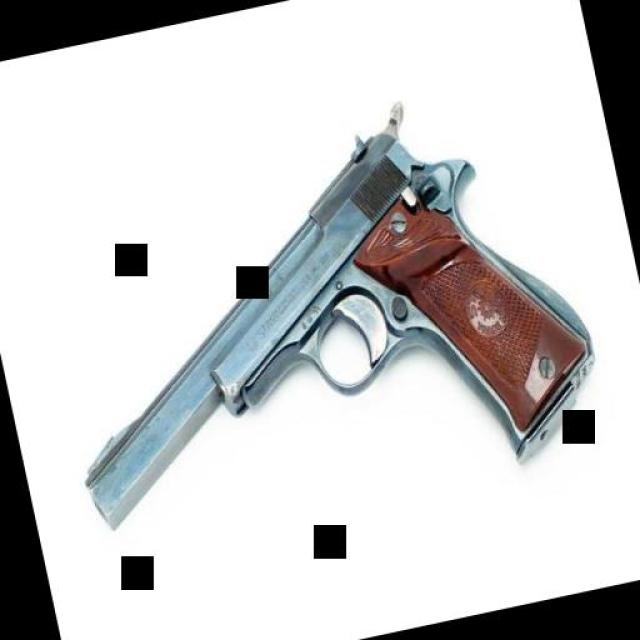gun: (10, 66, 618, 565)
